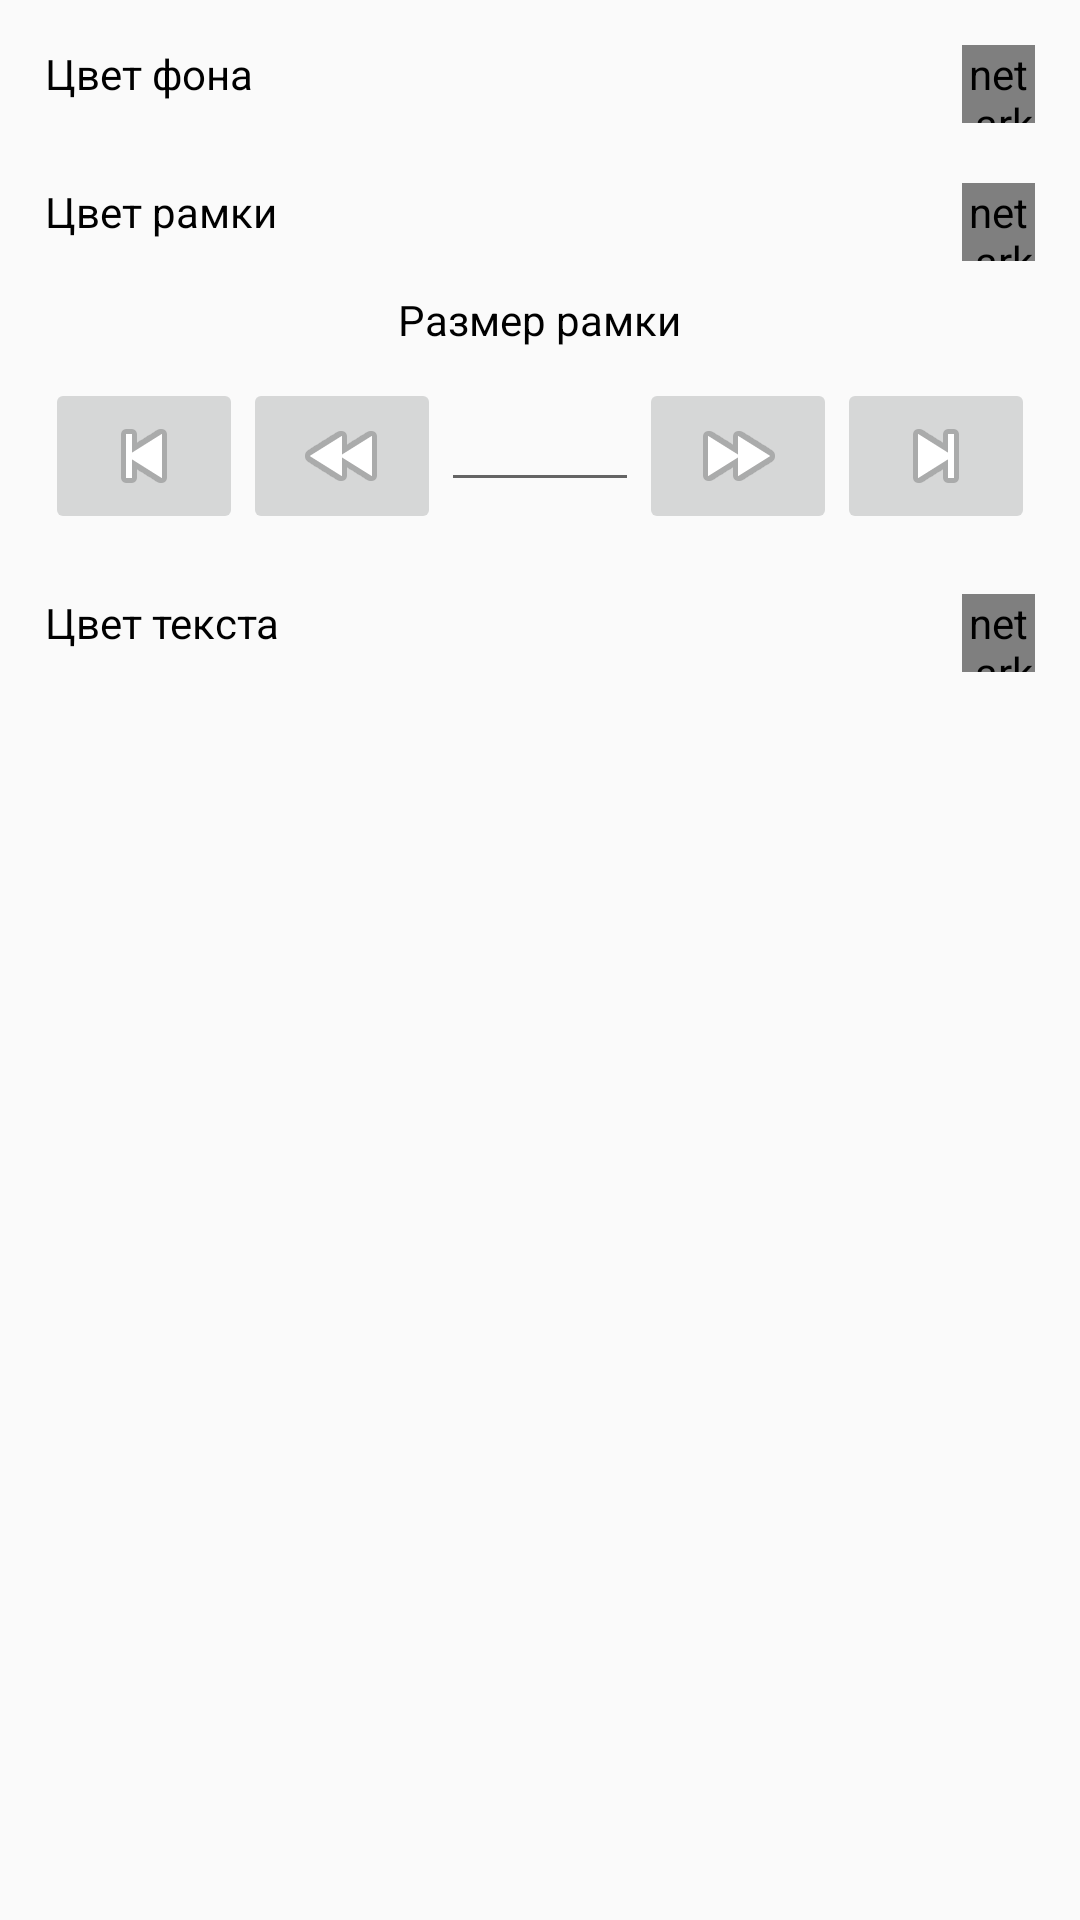

Point at icon controls on the screen. Image size 1080px×1920px, points as (x=x, y=y).
next: (x=936, y=456)
previous: (x=144, y=456)
rew: (x=342, y=456)
